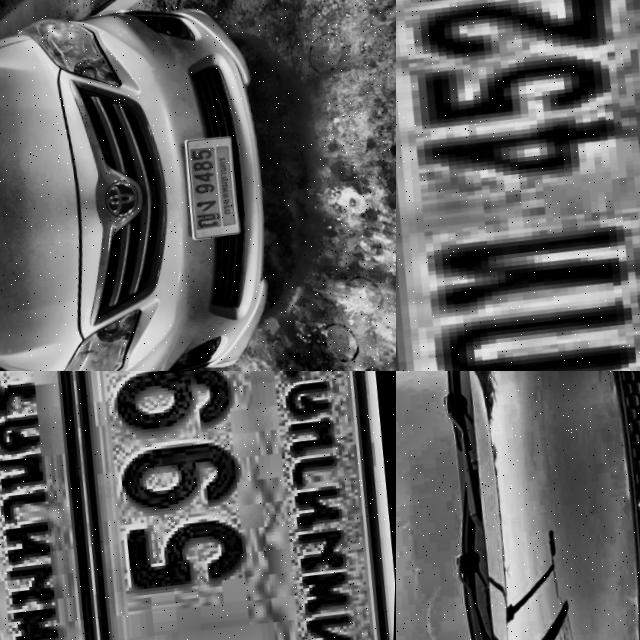license-plate: (45, 371, 396, 640), (396, 0, 640, 371), (0, 371, 141, 640), (181, 130, 245, 238)
